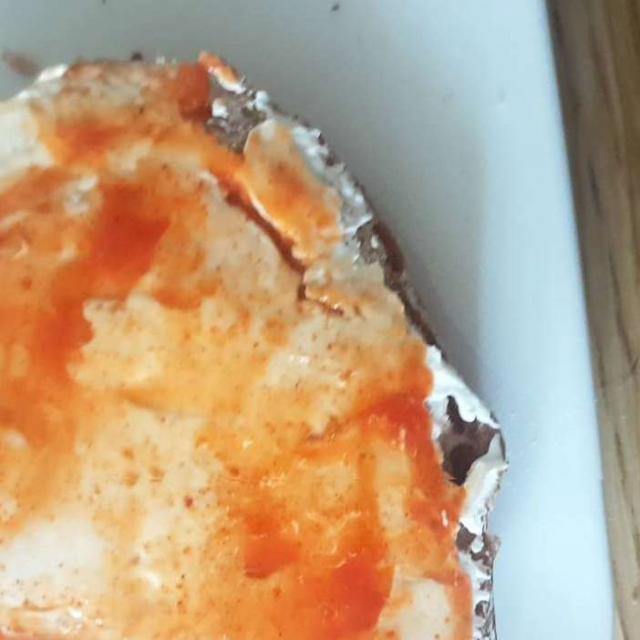jam: (2, 79, 458, 638)
